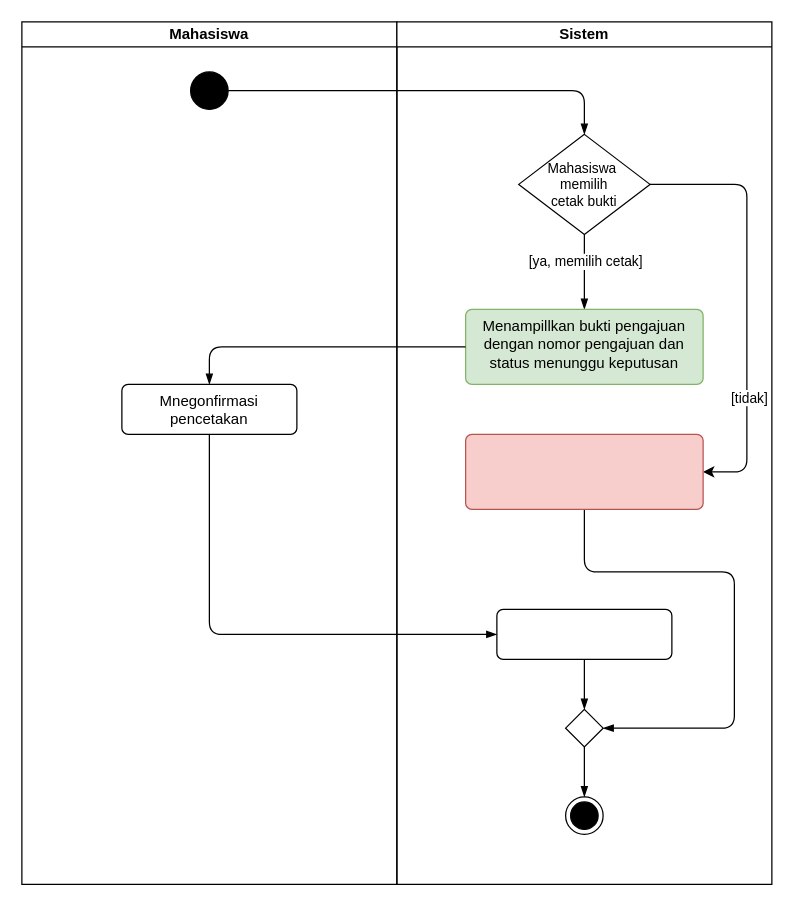
This 794x906 diagram has some shape labels left out. Each missing label, with the centre of its shape:
"Mencetak bukti pengajuan" goes at (584,633).
"Menutup konfirmasi tanpa mencetak bukti dan pengajuan tetap tersimpan" goes at (583,471).
